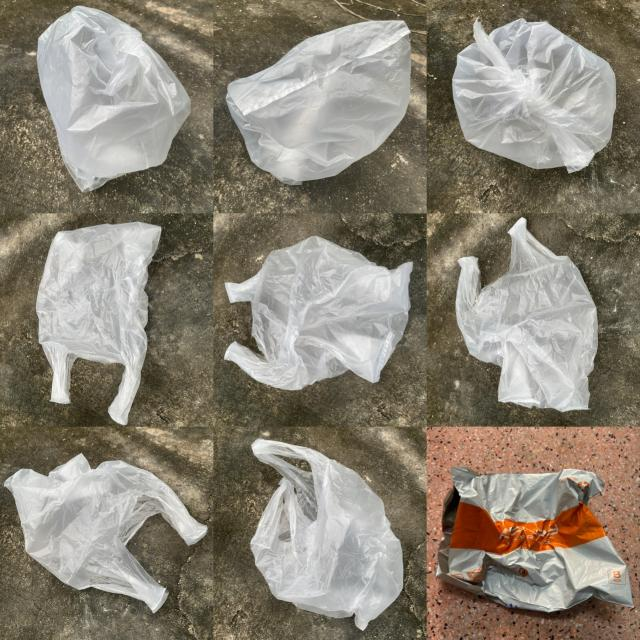Single-layer Plastic: (5, 454, 206, 612), (226, 20, 411, 185), (225, 236, 412, 390), (251, 439, 402, 629), (38, 6, 190, 192), (436, 468, 631, 612), (456, 218, 598, 411), (36, 222, 161, 424), (452, 19, 616, 172)
